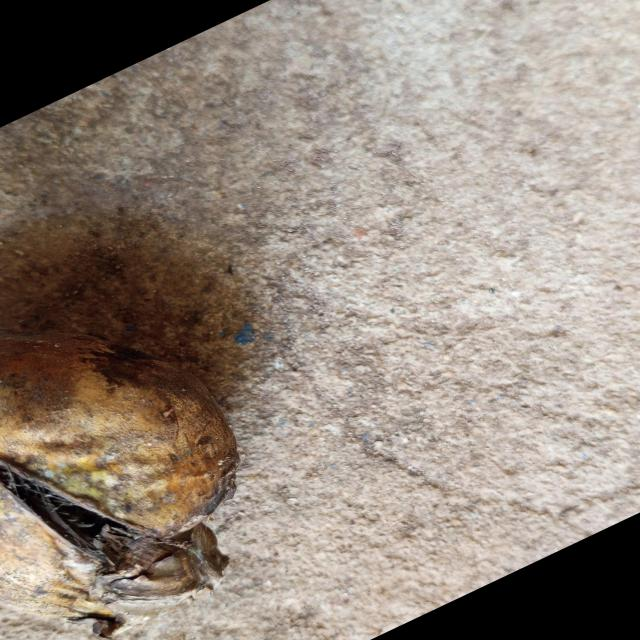damaged: (0, 332, 239, 640)
